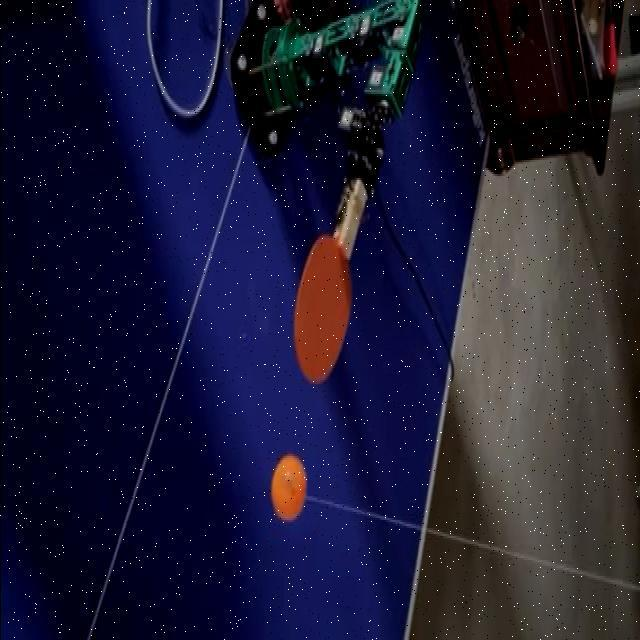ping-pong-ball: (273, 456, 305, 520)
